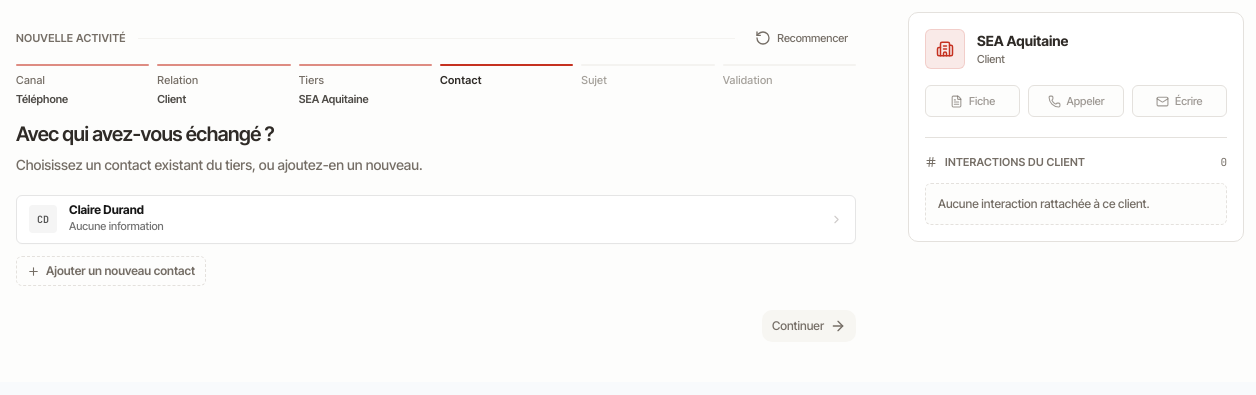
CockpitGuidedEntry - affichage des erreurs de validation › affiche l erreur et demande le focus apres un clic sur Continuer
The width and height of the screenshot is (1256, 395).
Click the button "Continuer": (809, 326) [762, 310, 856, 342]
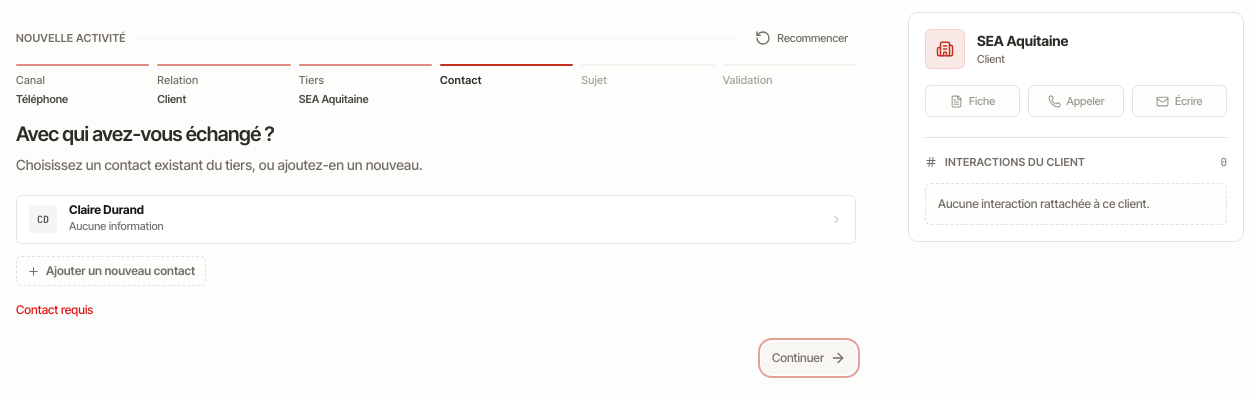
Expected: the text "Contact requis" is shown, [16, 302, 93, 317]
